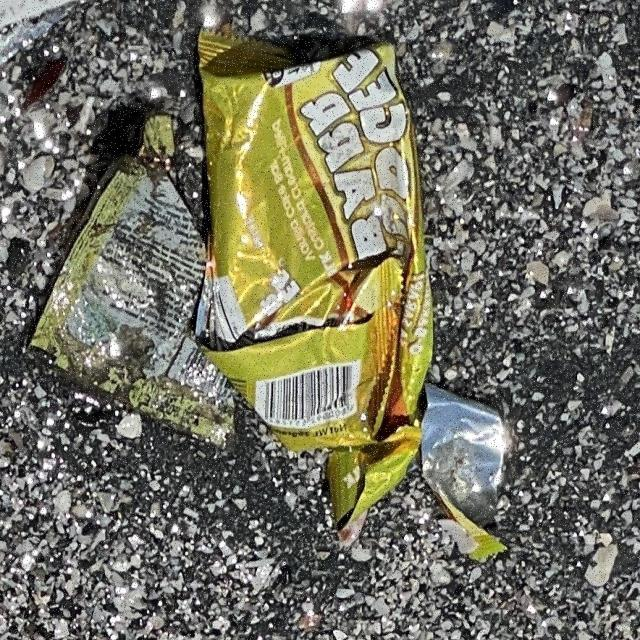plastic_waste: (192, 27, 508, 562)
